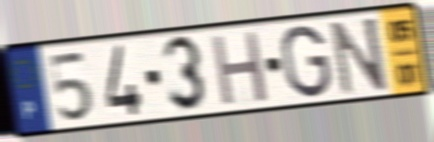3: (160, 32, 210, 116)
4: (105, 43, 144, 119)
5: (46, 48, 95, 123)
G: (279, 22, 334, 101)
H: (209, 28, 271, 110)
N: (328, 14, 391, 98)
